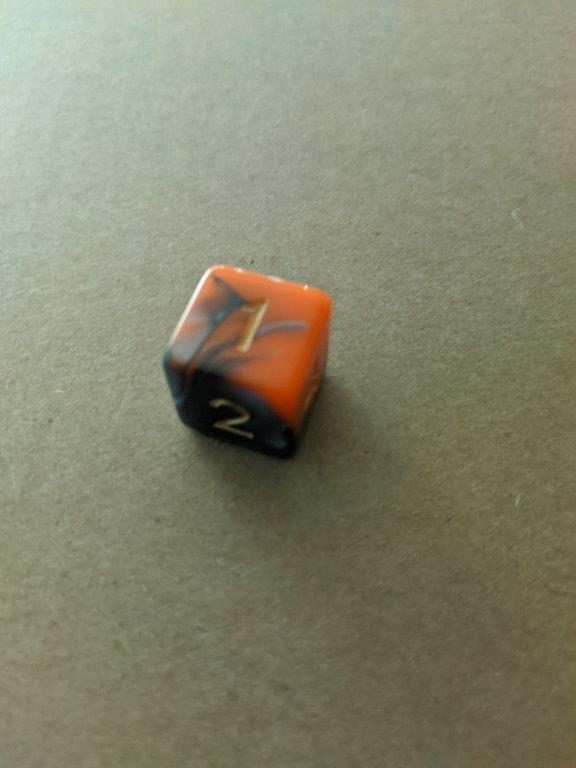d6-1: (162, 264, 334, 461)
